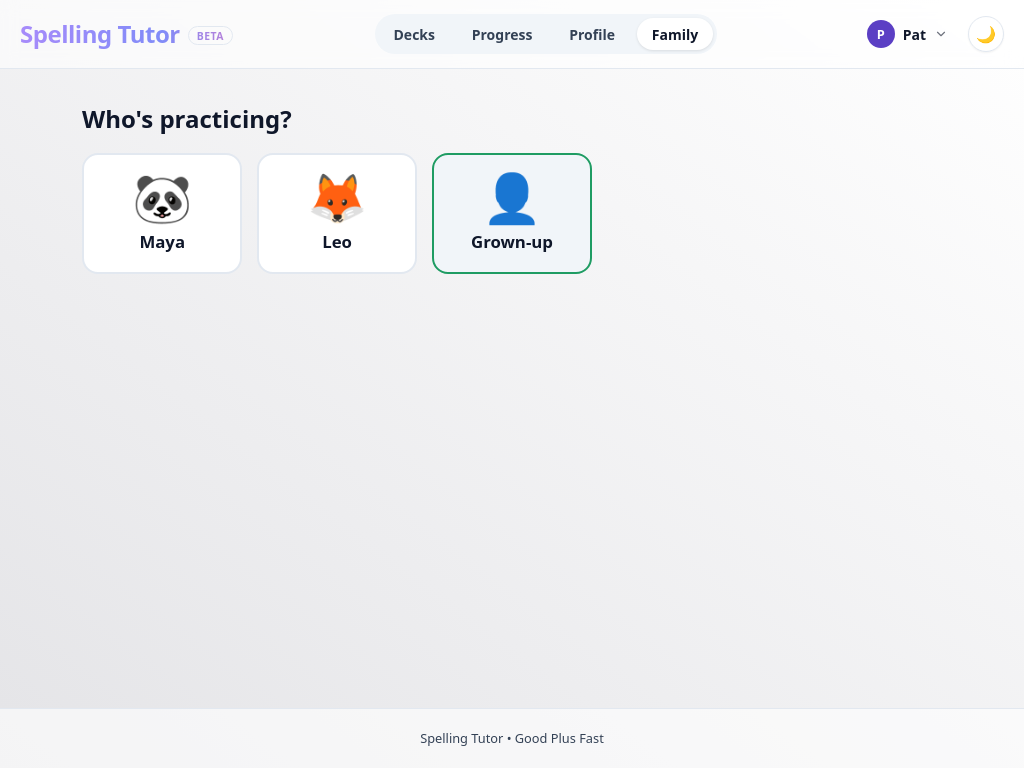
kid mode › shows the children and starts kid mode when one is chosen
This screenshot has width=1024, height=768.
What coordinates should you click on to do the following:
click the button "🐼 Maya"
I would click on:
 (162, 213)
Its box is top-left (82, 153), bottom-right (242, 274).
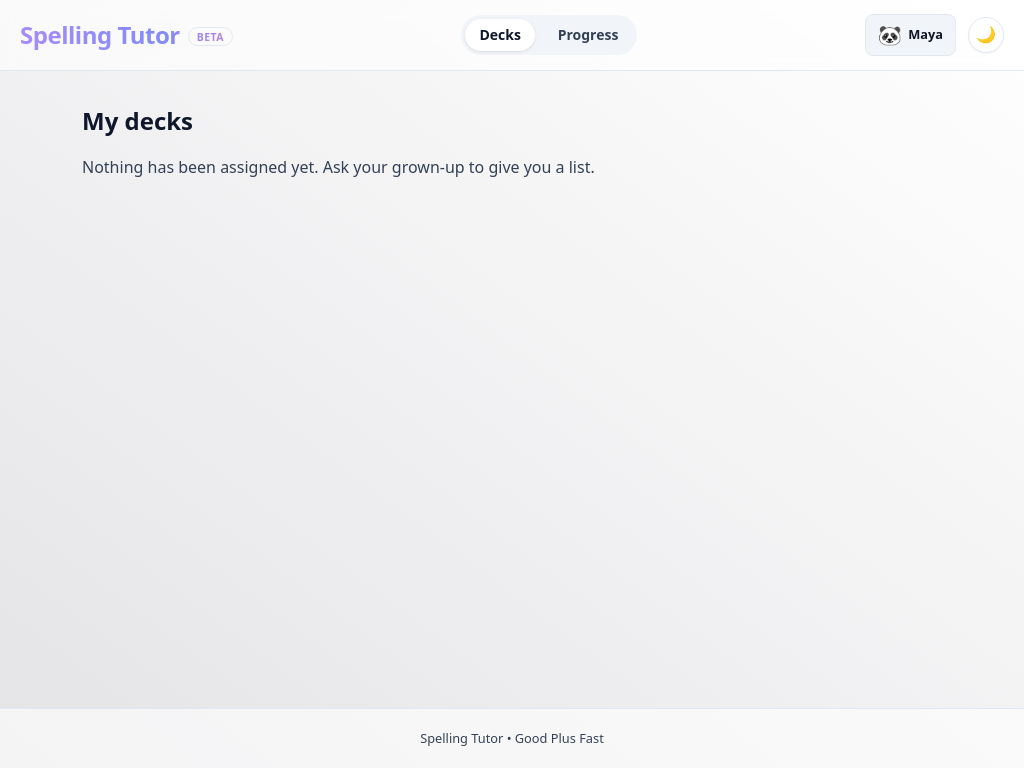
Check: the link with aria-label "Maya is practicing" is shown, box top-left (865, 14), bottom-right (956, 56)
Check: the links read "Decks", "Progress", in this order, box top-left (465, 19), bottom-right (535, 51); top-left (558, 26), bottom-right (618, 44)
